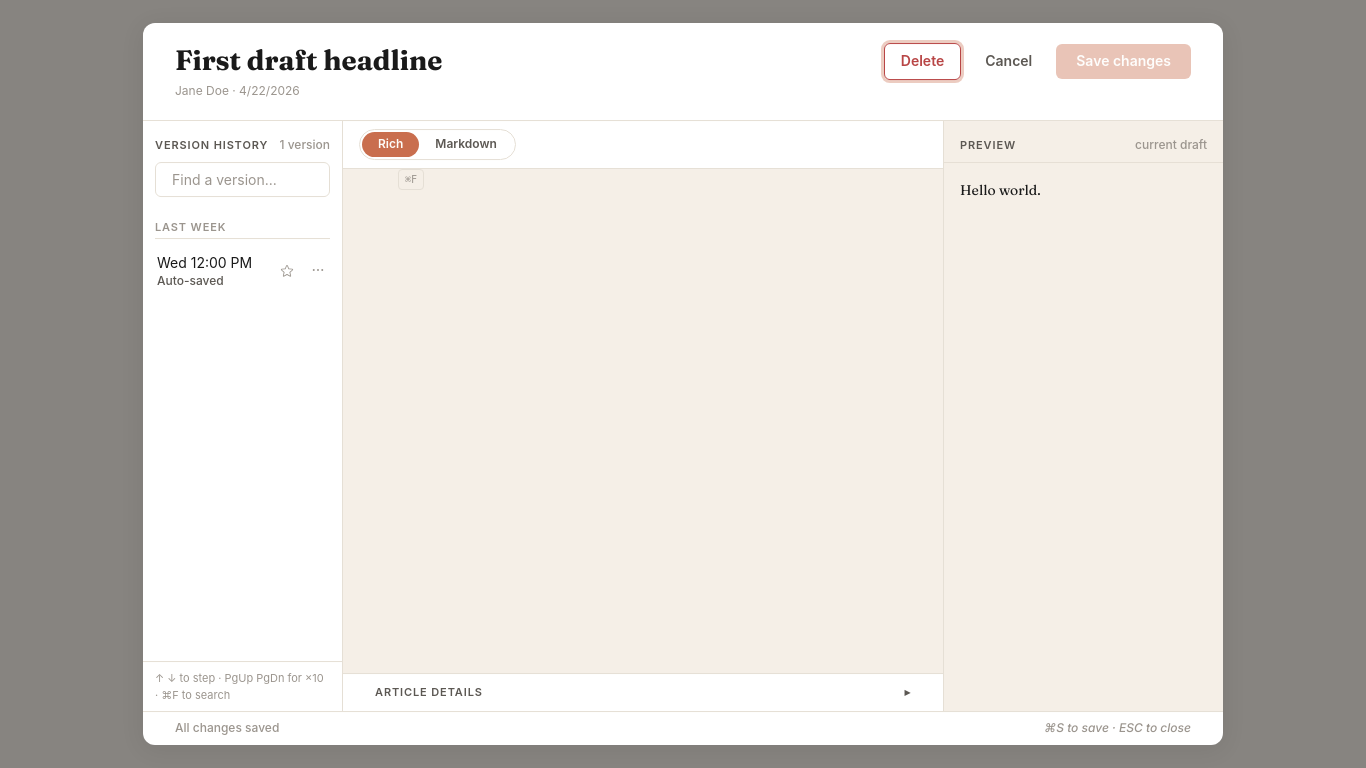
Test: <EditArticleModal> › Restore on a dirty editor → 3-option dialog (G3), not the simple confirm
// Mark dirty by editing the headline.
Click the button with test id "edit-article-details-toggle" at (429, 692), box 343,674 -> 943,711
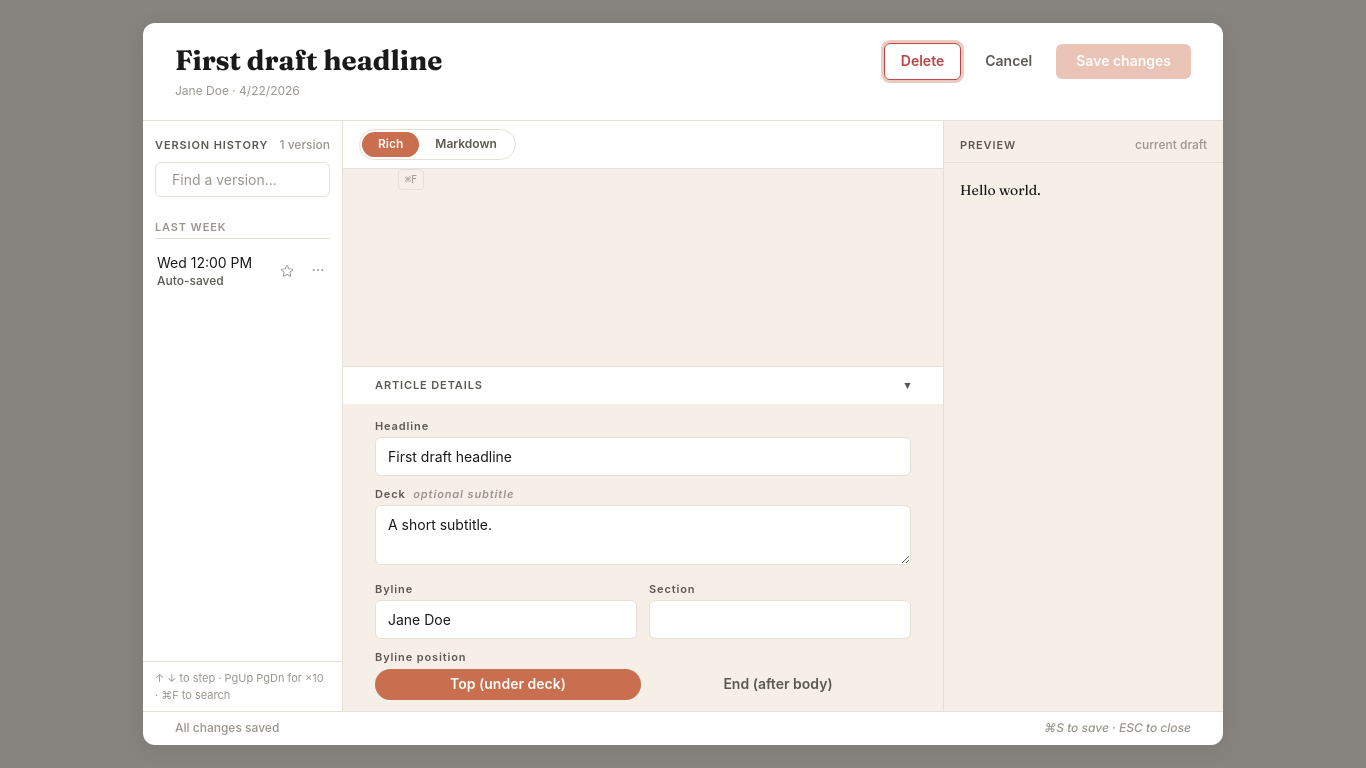
Replace the text in the field with test id "edit-article-headline" with "Edited headline" at (643, 457), box 375,437 -> 911,476
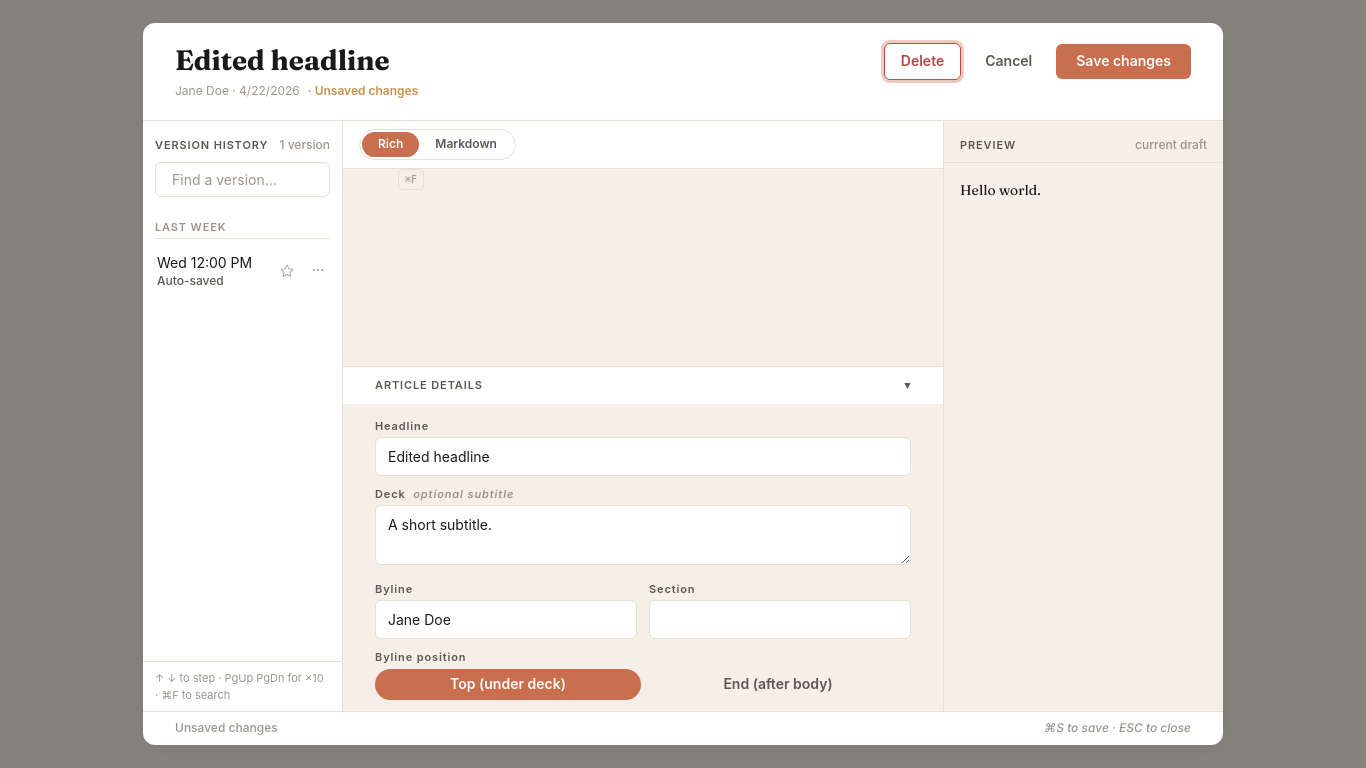
Click the button with test id "article-history-row-snap-42" at (242, 271), box 143,243 -> 342,299
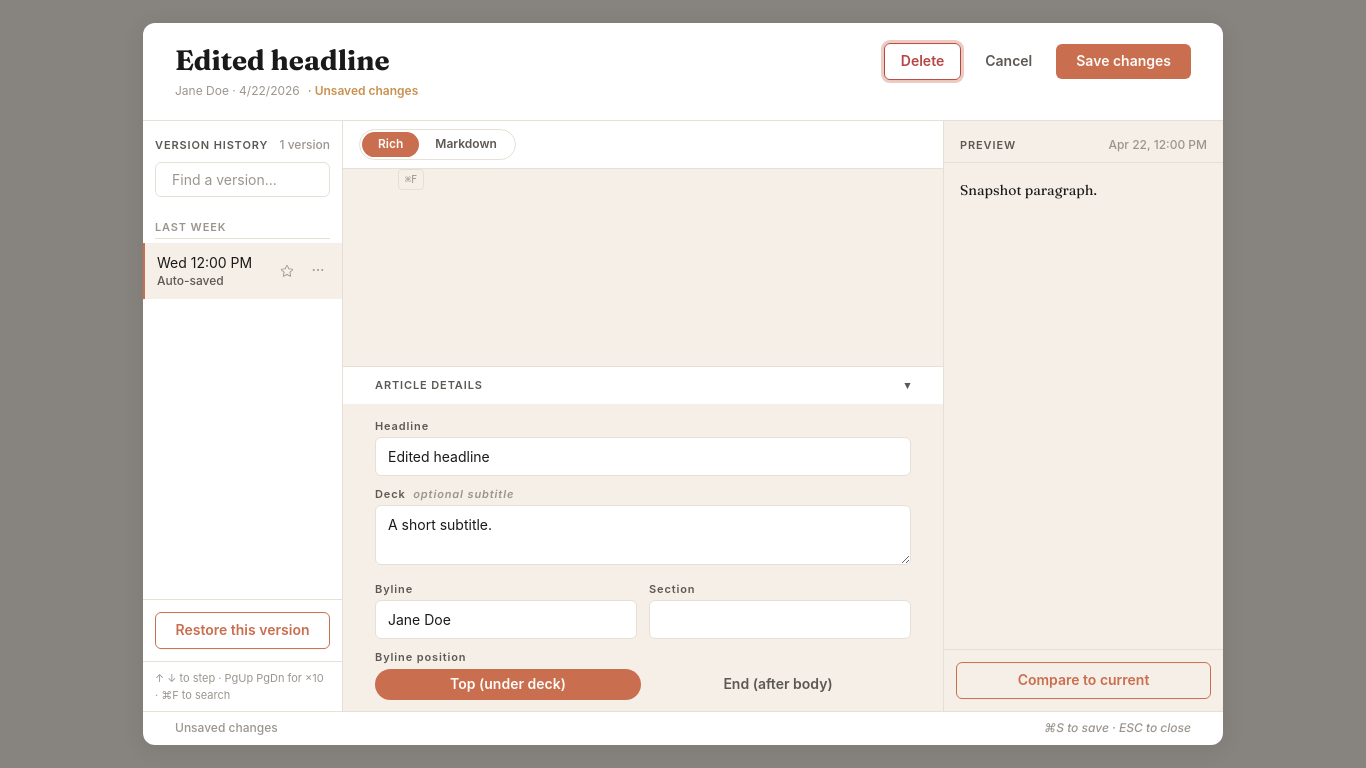
Click the button with test id "article-history-restore" at (242, 631), box 155,612 -> 330,649
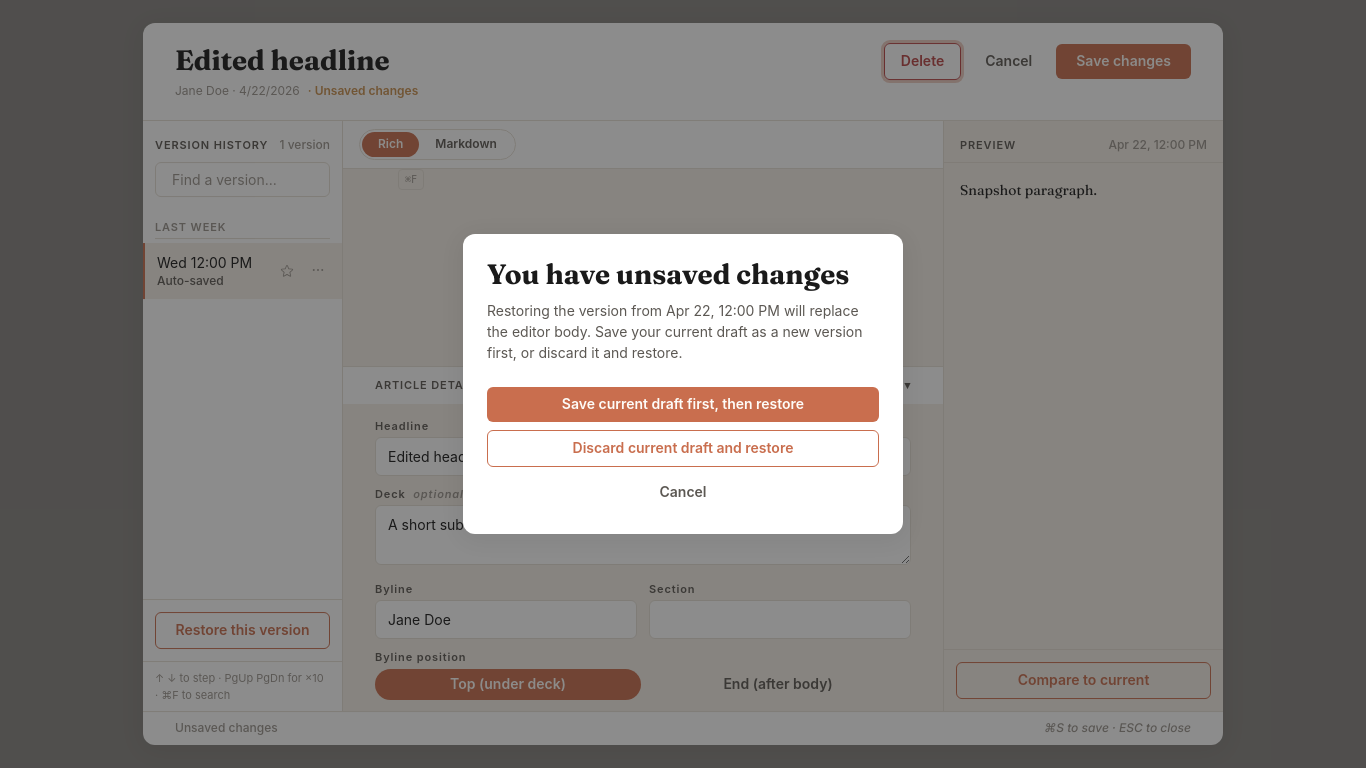
Expected: the dialog with test id "restore-unsaved-dialog" is shown
Expected: the button with test id "restore-unsaved-save-first" is shown, 487,387 -> 879,422
Expected: the button with test id "restore-unsaved-discard" is shown, 487,430 -> 879,467
